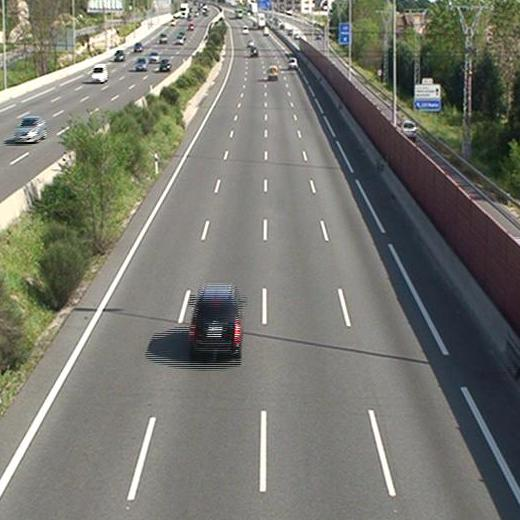car: (190, 286, 242, 354), (287, 56, 295, 69), (248, 46, 258, 56)
van: (267, 65, 277, 82)
